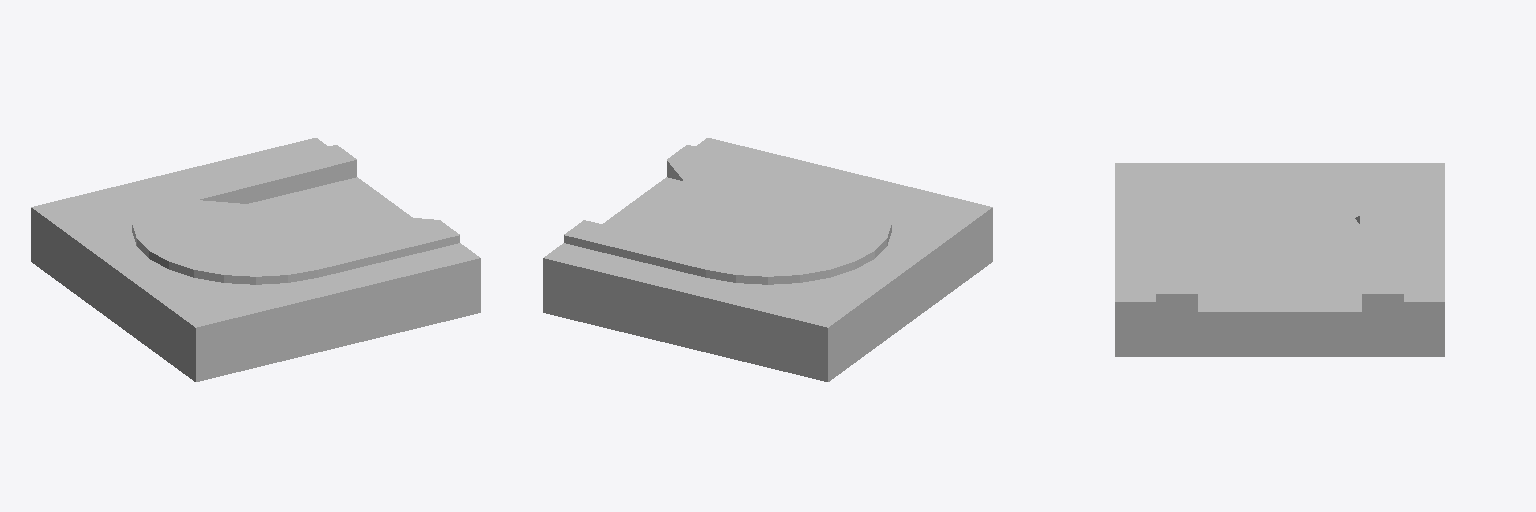
File: roadTile_273.obj
The picture shows the model from 3 angles: view 1: azimuth 30°, elevation 25°; view 2: azimuth 150°, elevation 25°; view 3: azimuth 270°, elevation 25°; orthographic projection.
Parts seen in each view (by area): view 1: Mesh1 Group1 Model; view 2: Mesh1 Group1 Model; view 3: Mesh1 Group1 Model.
Boxes of the visible parts, box(x1,y1,x2,y2) form: Mesh1 Group1 Model: box(31, 138, 480, 381); Mesh1 Group1 Model: box(543, 138, 992, 381); Mesh1 Group1 Model: box(1115, 163, 1444, 356).
Bounding box in the file's own units: 3 × 0.63 × 3.